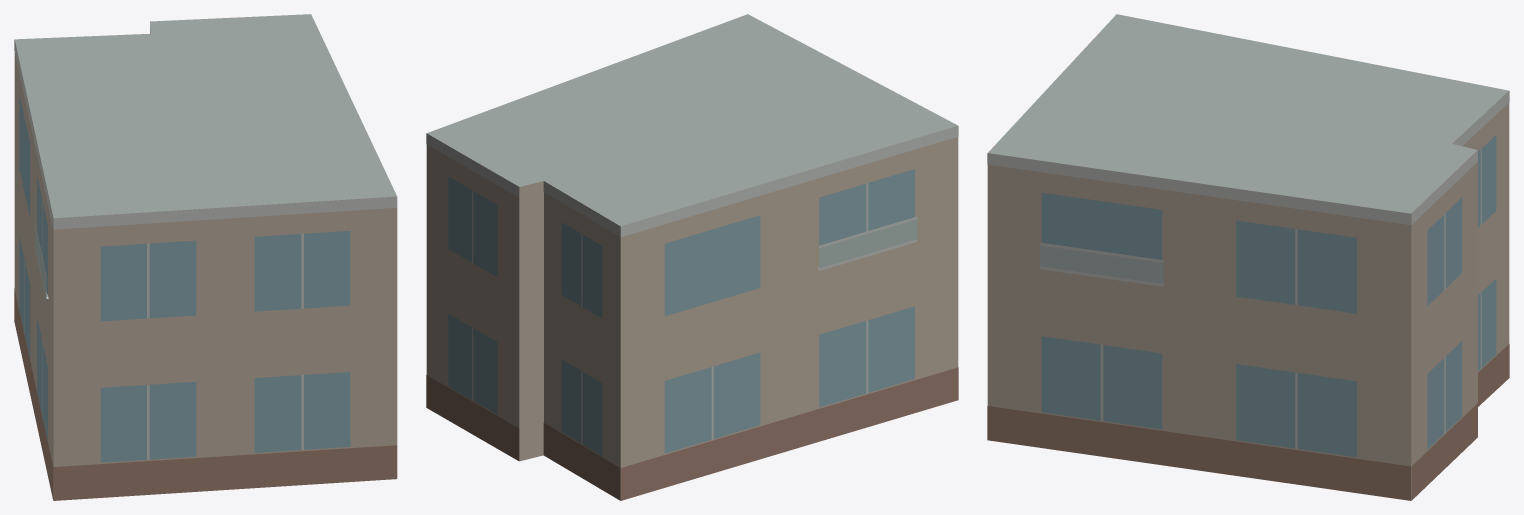
File: survey-upis-32947316.glb
3 views of the same model, side by side, from view 1: azimuth 30°, elevation 25°; view 2: azimuth 150°, elevation 25°; view 3: azimuth 270°, elevation 25° (orthographic). The views are drawn at different scales.
Visible parts, largest first — view 1: survey-upis-32947316.tmp; view 2: survey-upis-32947316.tmp; view 3: survey-upis-32947316.tmp.
Boxes of the visible parts, x1=… form: survey-upis-32947316.tmp: x1=14, y1=14, x2=397, y2=500; survey-upis-32947316.tmp: x1=426, y1=14, x2=958, y2=500; survey-upis-32947316.tmp: x1=987, y1=14, x2=1509, y2=500.
Size of the model in its own units: 9.11 by 6.1 by 10.06.
